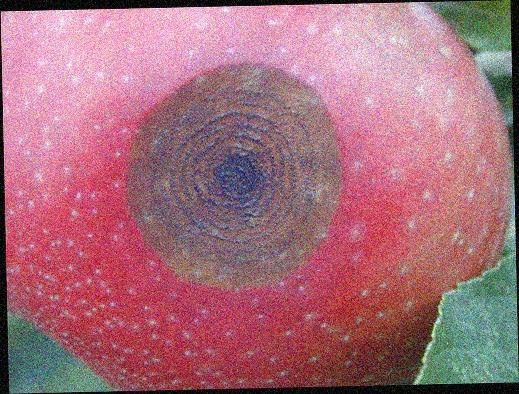rotten apple: (4, 6, 514, 389)
